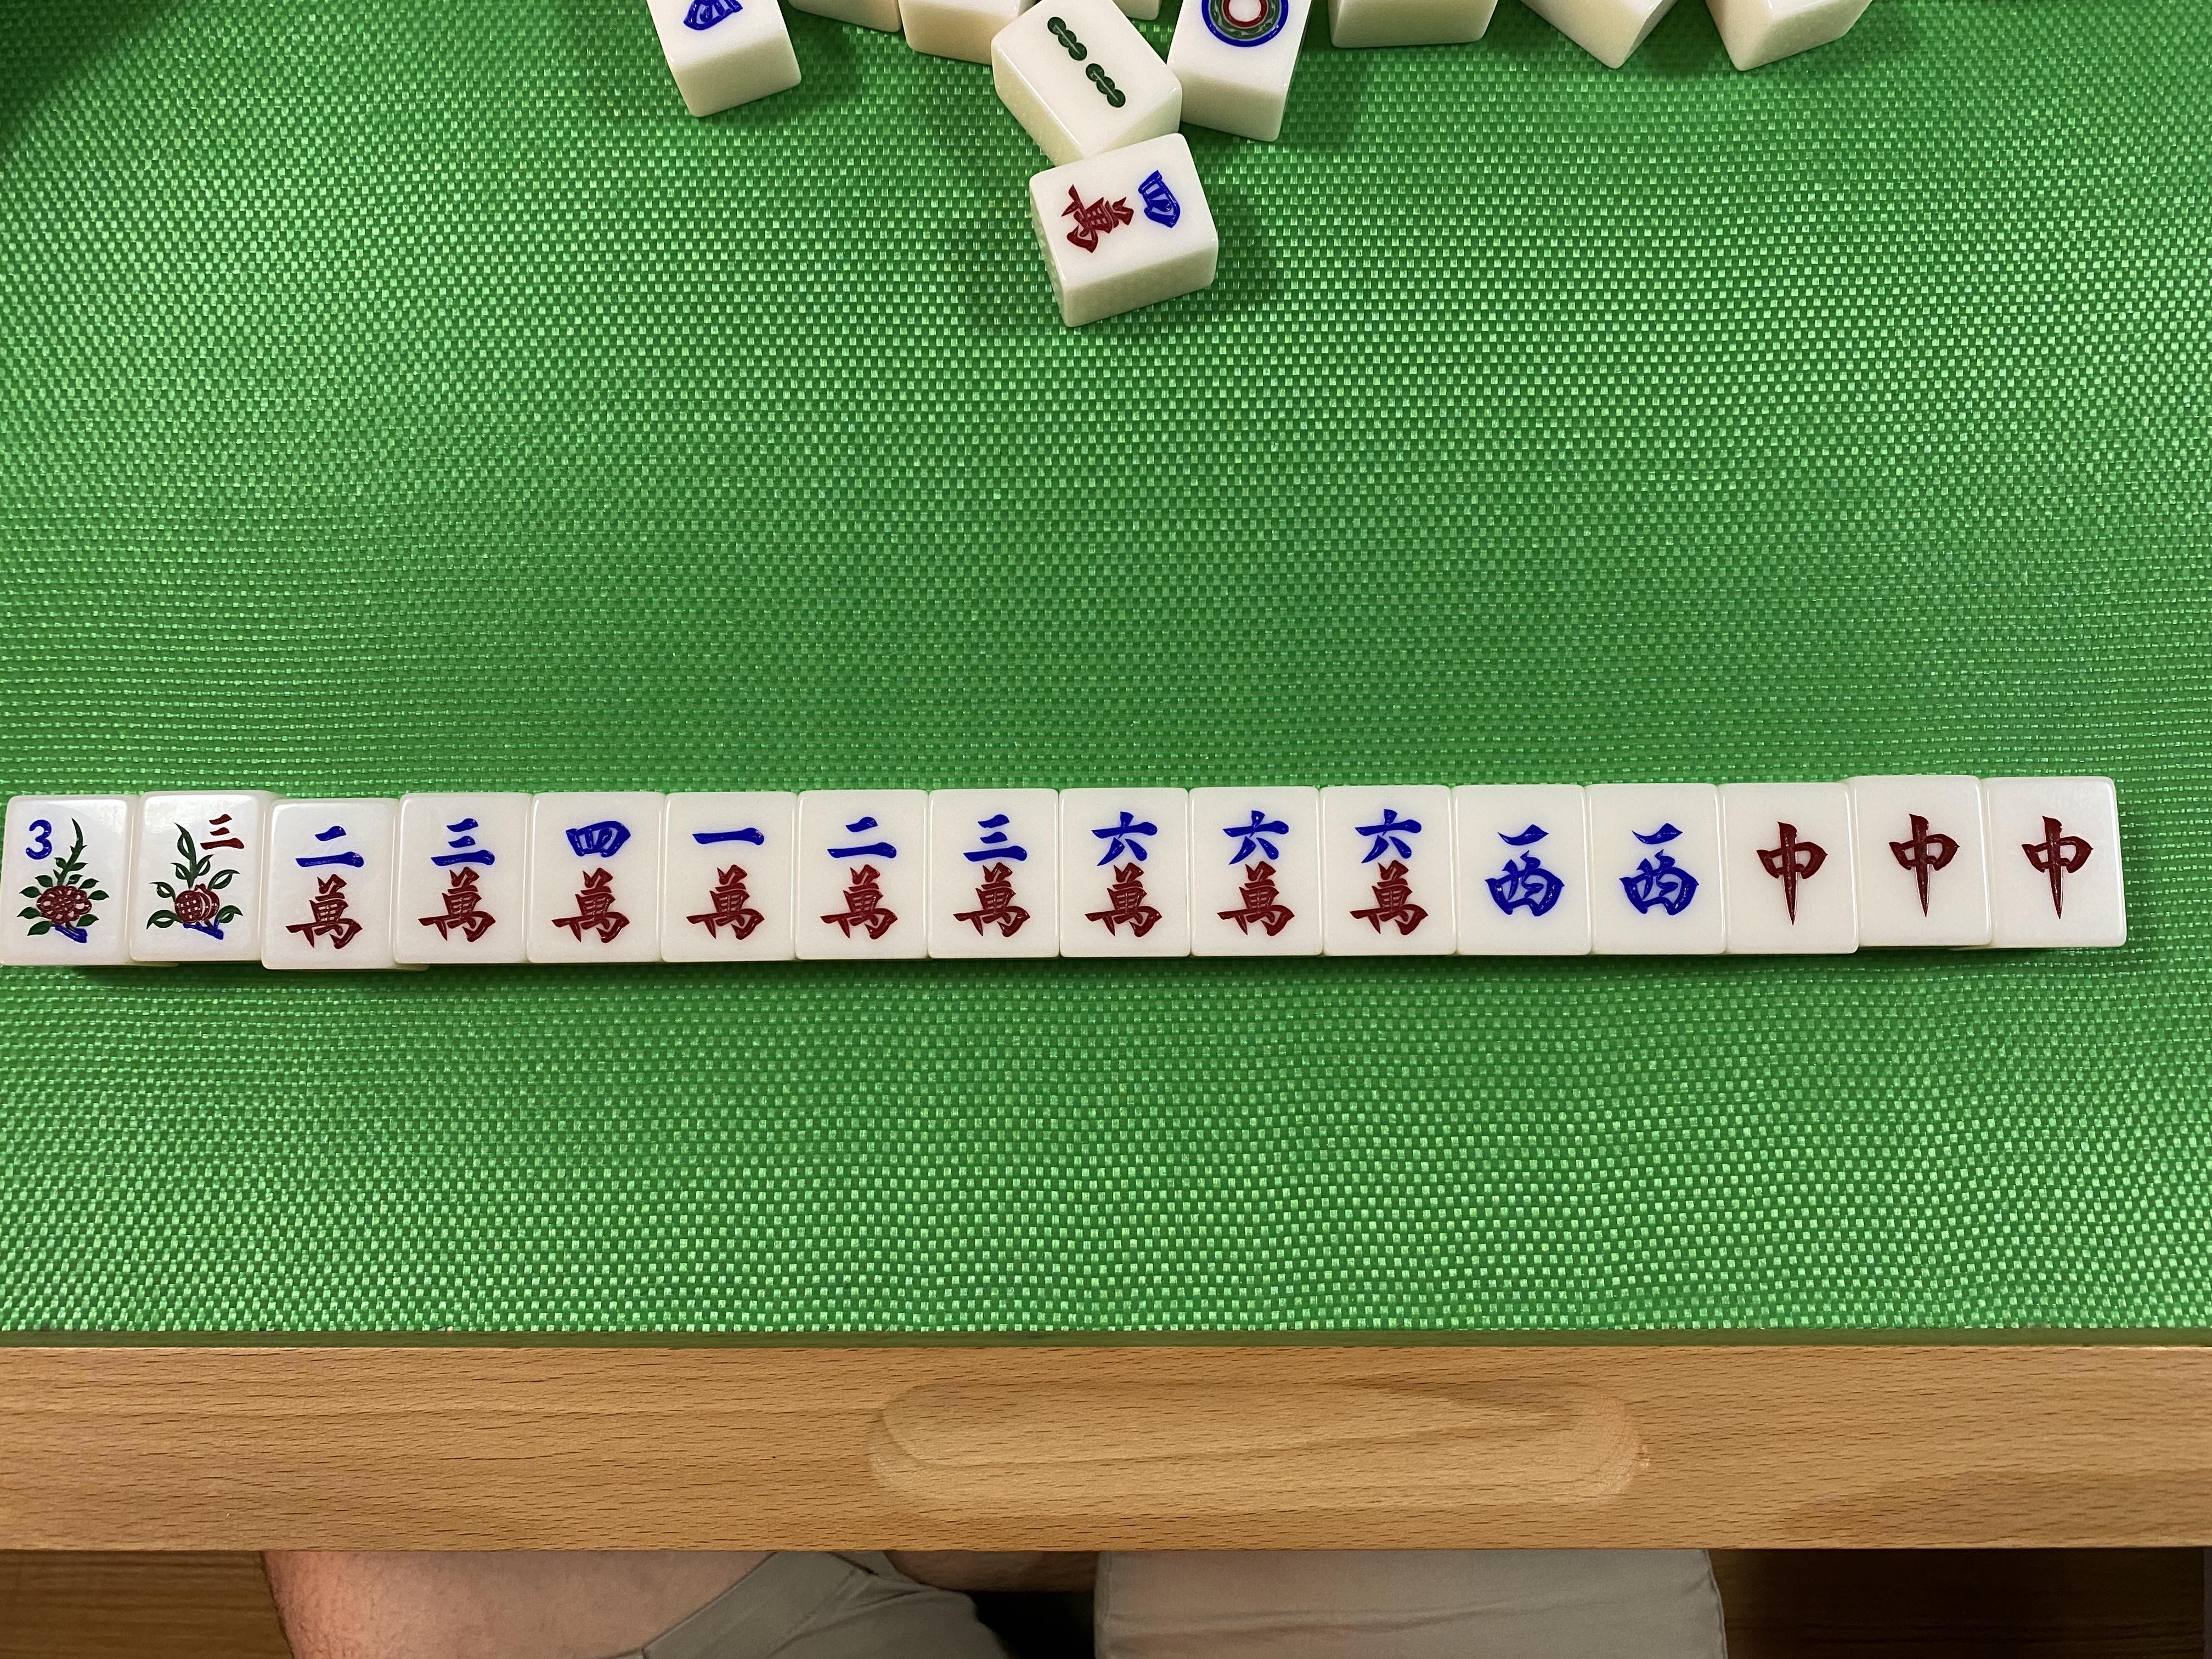character-four: (536, 795, 653, 958)
character-one: (667, 795, 791, 960)
character-six: (1190, 786, 1322, 955), (1322, 789, 1454, 953), (1061, 788, 1190, 955)
character-three: (928, 791, 1057, 957), (404, 798, 521, 962)
character-two: (798, 793, 923, 953), (270, 800, 387, 965)
flower-blue_three: (5, 795, 124, 960)
flower-red_three: (139, 798, 256, 958)
honor-red_dragon: (1991, 781, 2127, 946), (1728, 786, 1858, 951), (1860, 781, 1989, 946)
honor-west_wind: (1588, 786, 1724, 953), (1456, 786, 1590, 955)
